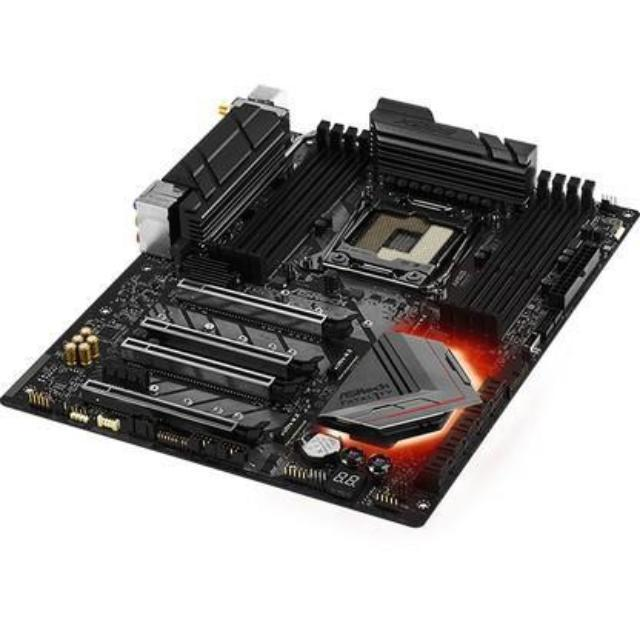Mainboard: (0, 77, 640, 537)
